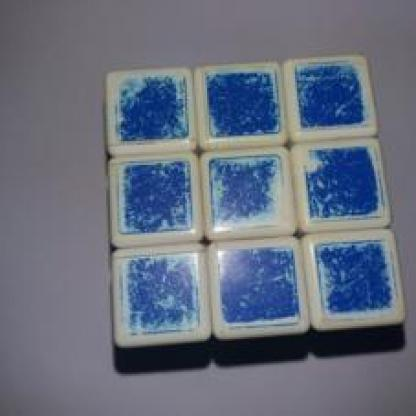cube: (96, 60, 398, 358)
